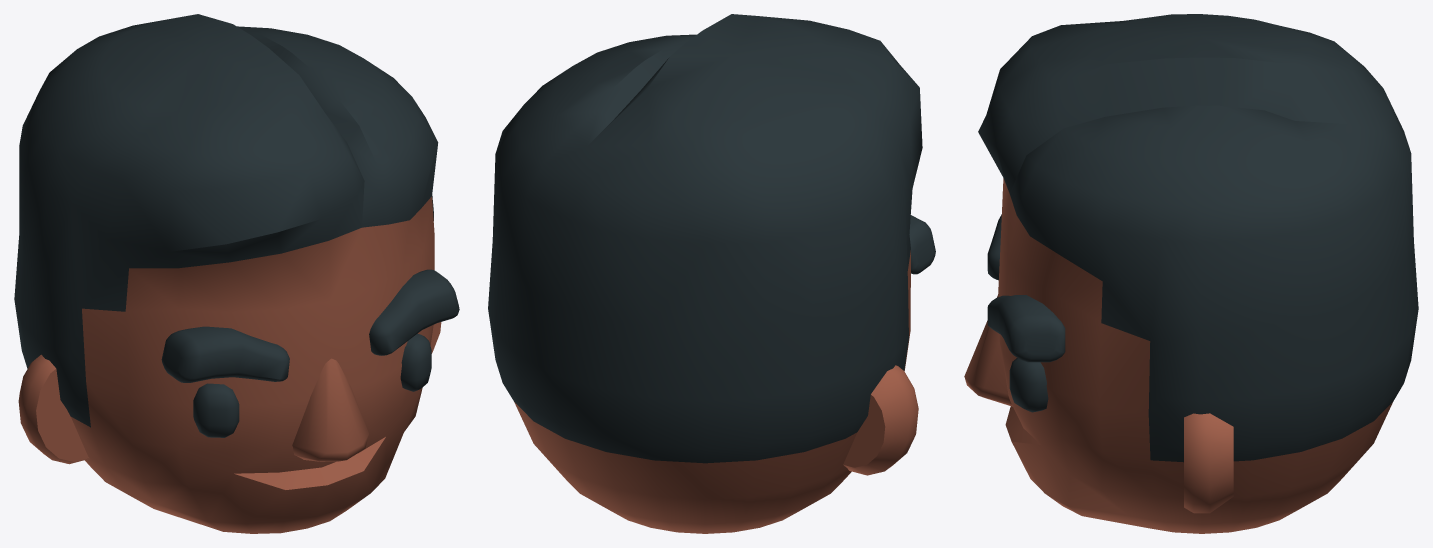
The model's file is knightHeadA.dae.
3 renders of one model, left to right at view 1: azimuth 30°, elevation 25°; view 2: azimuth 150°, elevation 25°; view 3: azimuth 270°, elevation 25°, orthographic.
Visible parts, largest first — view 1: knightHeadA; view 2: knightHeadA; view 3: knightHeadA.
Boxes of the visible parts, x1,y1,x2,y2 form: knightHeadA: [14, 14, 459, 533]; knightHeadA: [488, 14, 935, 533]; knightHeadA: [964, 14, 1418, 533].
Bounding box in the file's own units: 1.18 × 1.11 × 1.19.
